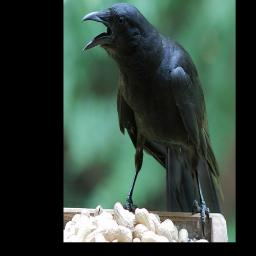Crow: (81, 2, 224, 237)
